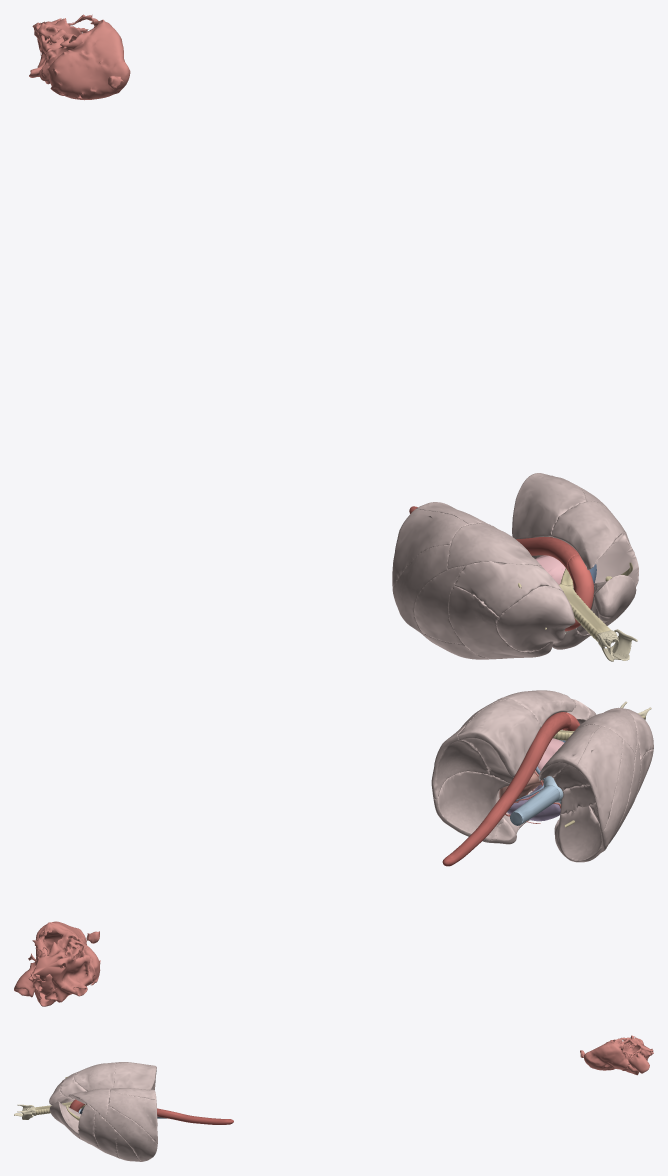
File: corazon-segmentado.glb
The picture shows the model from 3 angles, top to bottom: view 1: azimuth 30°, elevation 25°; view 2: azimuth 150°, elevation 25°; view 3: azimuth 270°, elevation 25°; orthographic projection. The views are drawn at different scales.
Parts seen in each view (by area): view 1: pulmones, corazon, aorta, traquea; view 2: pulmones, corazon, aorta, venas_cavas, ventriculo_derecho; view 3: pulmones, corazon, aorta, laringe.
Boxes of the visible parts, bbox=[...] form: pulmones: bbox=[392, 473, 638, 659]; corazon: bbox=[29, 14, 130, 100]; aorta: bbox=[409, 506, 594, 631]; traquea: bbox=[559, 584, 610, 641]; pulmones: bbox=[431, 690, 653, 862]; corazon: bbox=[14, 921, 100, 1006]; aorta: bbox=[442, 712, 579, 866]; venas_cavas: bbox=[510, 785, 559, 825]; ventriculo_derecho: bbox=[507, 783, 560, 821]; pulmones: bbox=[49, 1062, 157, 1161]; corazon: bbox=[580, 1035, 653, 1075]; aorta: bbox=[69, 1099, 233, 1124]; laringe: bbox=[14, 1104, 36, 1119].
Size of the model in its own units: 255 by 313 by 1430.
